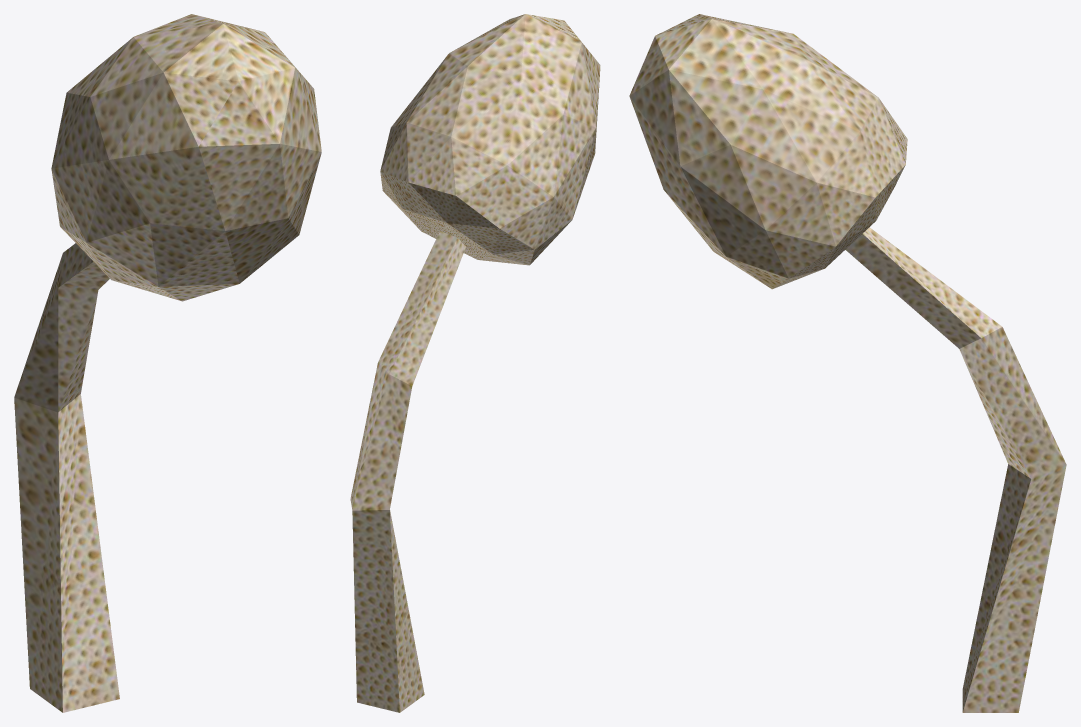
Rendered from fungo_5.fbx.
The picture shows the model from 3 angles, left to right: view 1: azimuth 30°, elevation 25°; view 2: azimuth 150°, elevation 25°; view 3: azimuth 270°, elevation 25°; orthographic projection. The views are drawn at different scales.
Parts seen in each view (by area): view 1: fungo_5; view 2: fungo_5; view 3: fungo_5.
Boxes of the visible parts, left/top/right/bottom form: fungo_5: left=14, top=14, right=321, bottom=712; fungo_5: left=350, top=14, right=600, bottom=712; fungo_5: left=629, top=14, right=1066, bottom=712.
Size of the model in its own units: 6.77 by 22.59 by 13.25.
